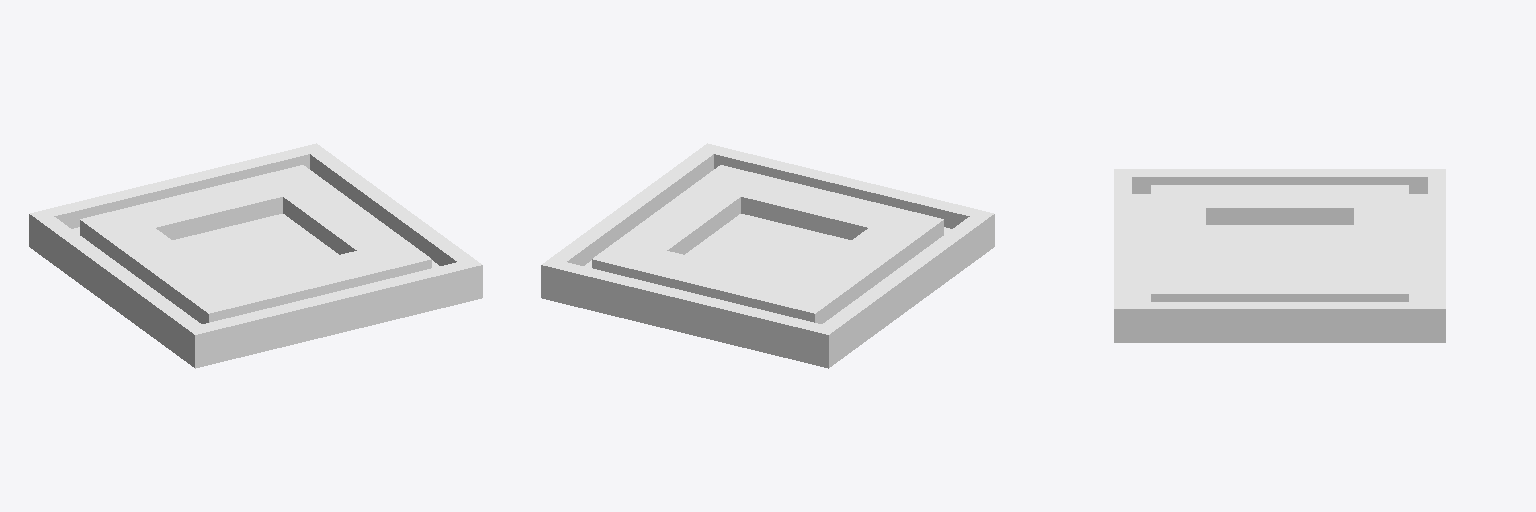
The model's file is FloorTile12.obj.
The picture shows the model from 3 angles: view 1: azimuth 30°, elevation 25°; view 2: azimuth 150°, elevation 25°; view 3: azimuth 270°, elevation 25°; orthographic projection.
Parts seen in each view (by area): view 1: object 1; view 2: object 1; view 3: object 1.
Boxes of the visible parts, <box> form: object 1: <box>29,143,482,368</box>; object 1: <box>541,143,994,368</box>; object 1: <box>1114,169,1445,342</box>.
Bounding box in the file's own units: 1.8 × 0.2 × 1.8.